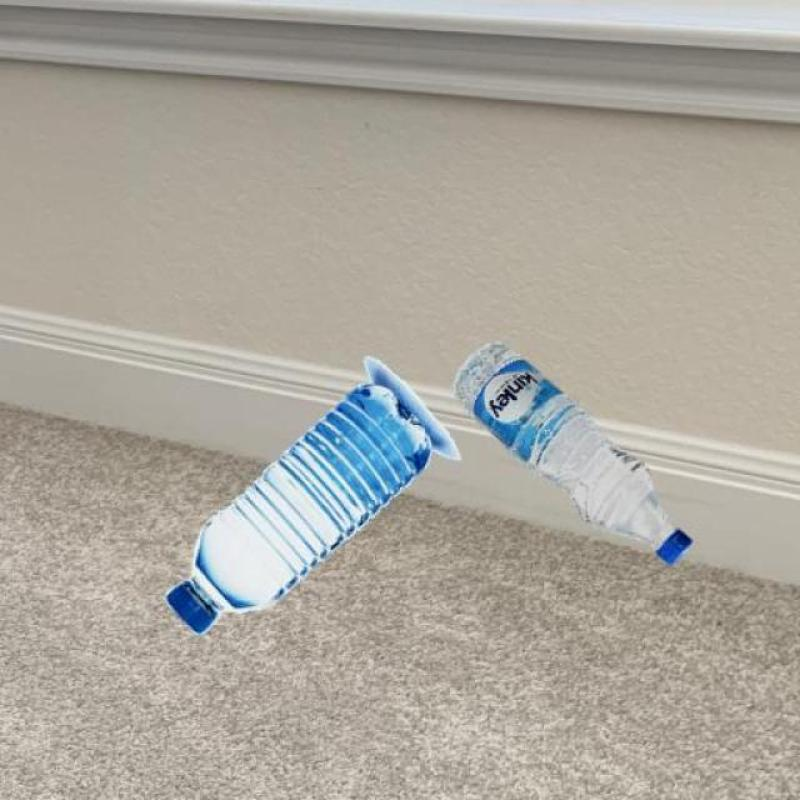botella: (164, 379, 430, 633), (450, 339, 692, 563)
